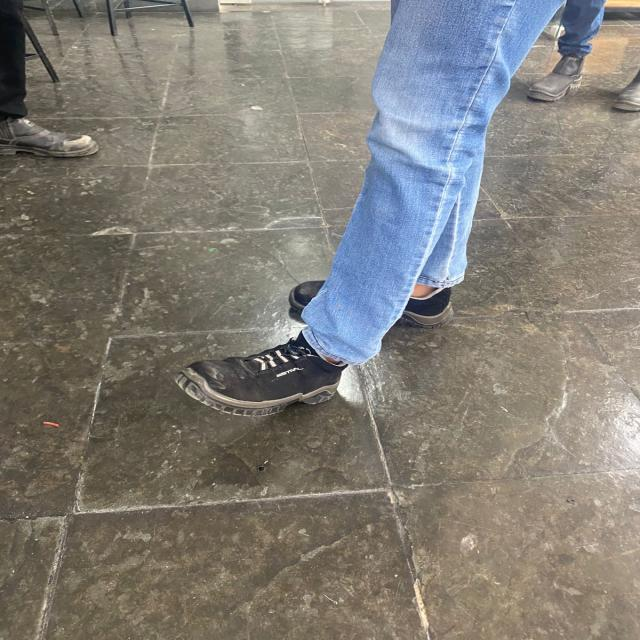BOTA: (169, 319, 354, 420), (277, 268, 469, 326), (2, 116, 110, 160), (527, 48, 591, 102), (618, 67, 639, 112)
